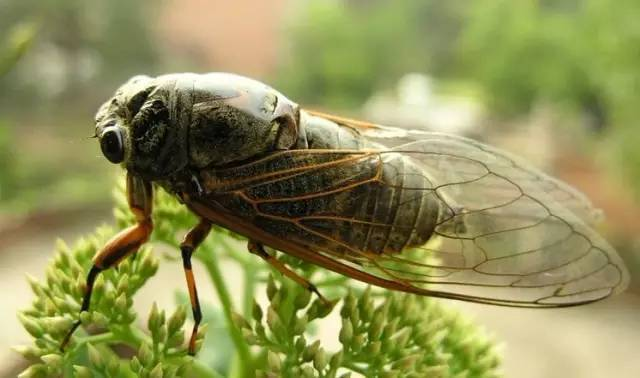chan: (92, 59, 604, 325)
